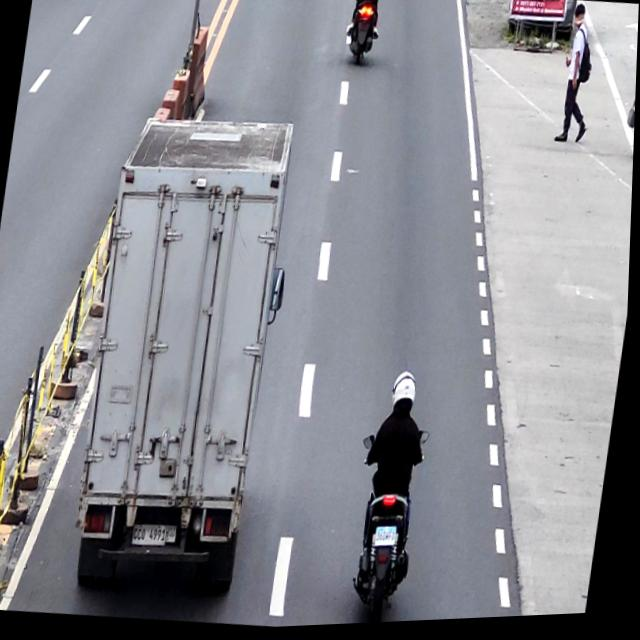License-Plate: (135, 520, 175, 556), (376, 529, 404, 553)
Motorcycle: (351, 374, 439, 624)
Truck: (76, 114, 297, 607)
